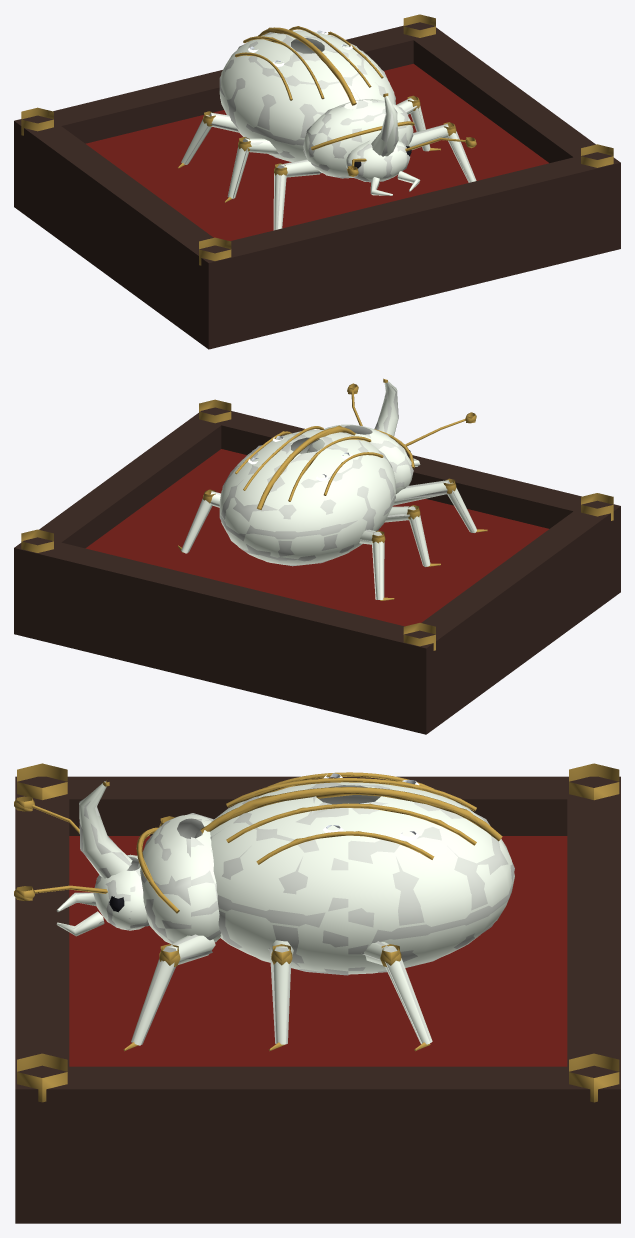
File: prop_white_jade_gu.gltf
3 views of the same model, one above another, from view 1: azimuth 30°, elevation 25°; view 2: azimuth 150°, elevation 25°; view 3: azimuth 270°, elevation 25° (orthographic). The views are drawn at different scales.
Parts seen in each view (by area): view 1: Far, Near; view 2: Far, Near; view 3: Far, Near.
Part boxes in pixels (x1,y1,x2,y2): Far: (14, 14, 620, 349); Near: (178, 26, 476, 230); Far: (14, 378, 620, 734); Near: (178, 380, 487, 600); Far: (15, 763, 620, 1223); Near: (14, 772, 514, 1050).
Size of the model in its own units: 0.1107 by 0.0469 by 0.0902.
